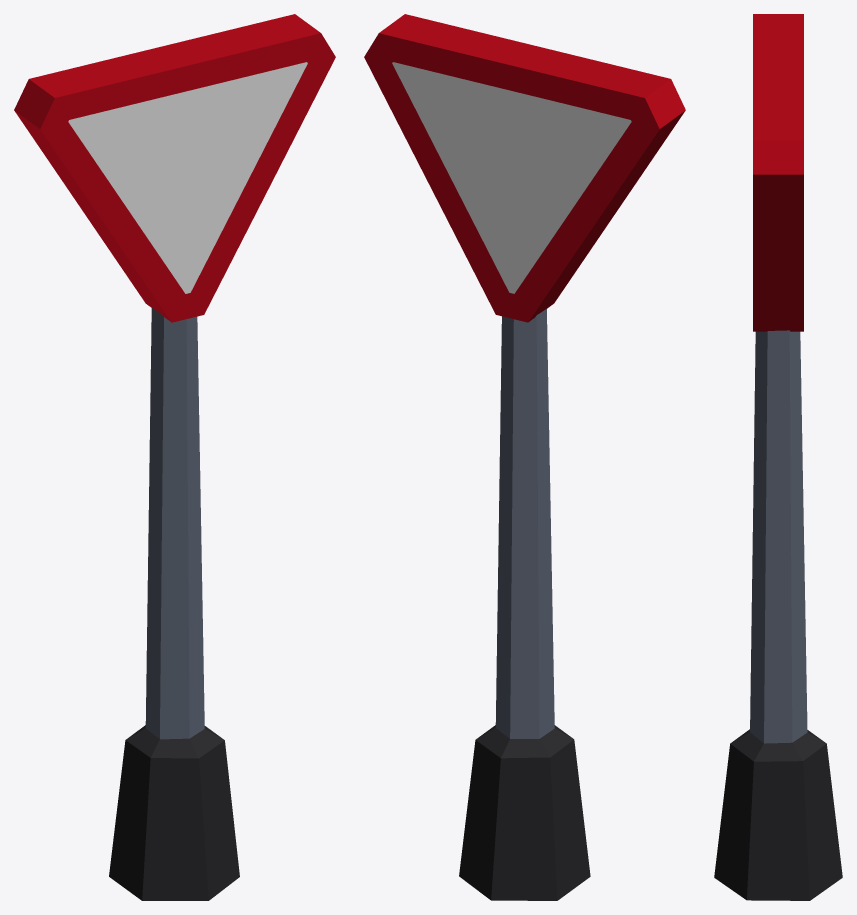
File: Road Sign 1.fbx
3 renders of one model, left to right at view 1: azimuth 30°, elevation 25°; view 2: azimuth 150°, elevation 25°; view 3: azimuth 270°, elevation 25°, orthographic. The views are drawn at different scales.
Visible parts, largest first — view 1: Road_Sign_01; view 2: Road_Sign_01; view 3: Road_Sign_01.
Boxes of the visible parts, x1,y1,x2,y2 form: Road_Sign_01: (14, 14, 335, 900); Road_Sign_01: (364, 14, 685, 900); Road_Sign_01: (714, 14, 842, 900).
Size of the model in its own units: 58.04 by 154 by 22.44.
